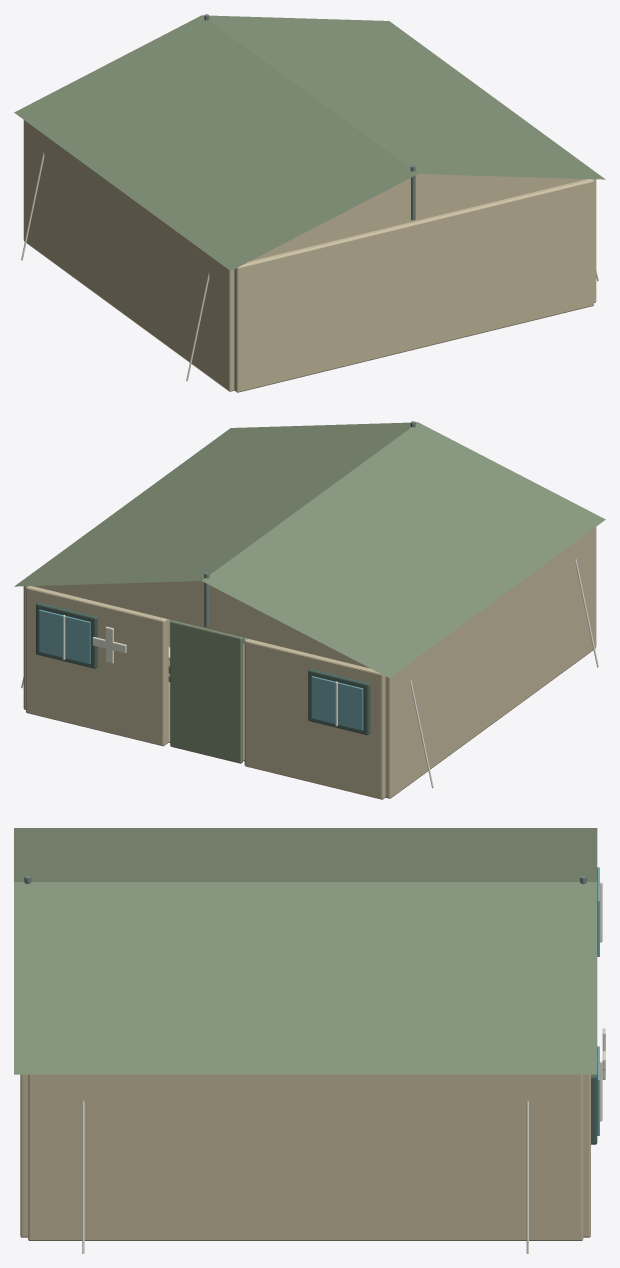
Rendered from military-medical.glb.
The picture shows the model from 3 angles, top to bottom: view 1: azimuth 30°, elevation 25°; view 2: azimuth 150°, elevation 25°; view 3: azimuth 270°, elevation 25°; orthographic projection. The views are drawn at different scales.
Parts seen in each view (by area): view 1: shell-wall, roof-cloth, shell-white; view 2: roof-cloth, shell-wall, entrance flap, shell-glass, shell-trim, shell-white; view 3: roof-cloth, shell-wall, shell-white.
Boxes of the visible parts, <box> form: shell-wall: <box>23,120,596,392</box>; roof-cloth: <box>14,15,605,270</box>; shell-white: <box>21,151,598,381</box>; roof-cloth: <box>14,422,605,677</box>; shell-wall: <box>23,527,596,799</box>; entrance flap: <box>170,620,243,763</box>; shell-glass: <box>39,609,363,730</box>; shell-trim: <box>36,602,370,735</box>; shell-white: <box>21,558,598,788</box>; roof-cloth: <box>14,828,597,1074</box>; shell-wall: <box>20,1074,590,1240</box>; shell-white: <box>82,882,602,1253</box>.
Size of the model in its own units: 9.24 by 3.89 by 8.53.
